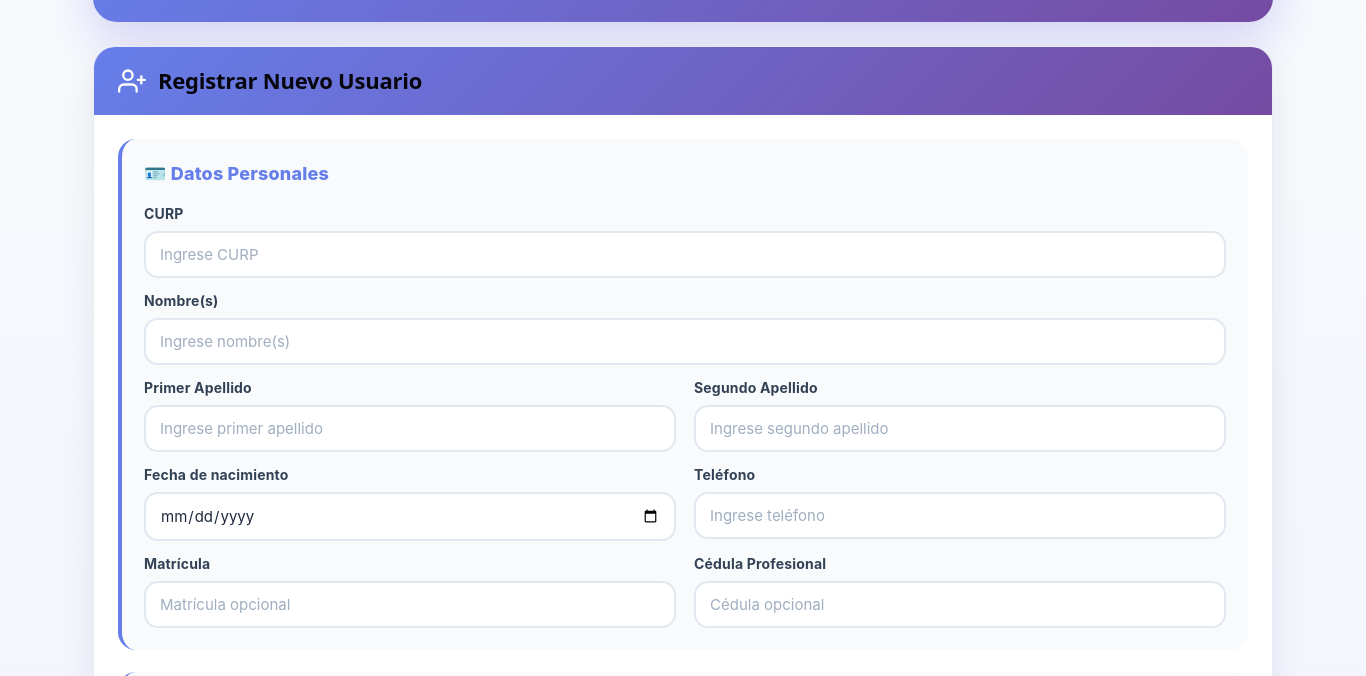
Test: Alta de usuarios › recorta el usuario, guarda el rol y muestra el alta sin depender de otra consulta
Expected: the date field is shown, top-left (144, 492), bottom-right (676, 541)
Type "Usuario QA" into the field with placeholder "Ingrese nombre(s)" at (685, 341), box top-left (144, 318), bottom-right (1226, 365)
(page scrolled)
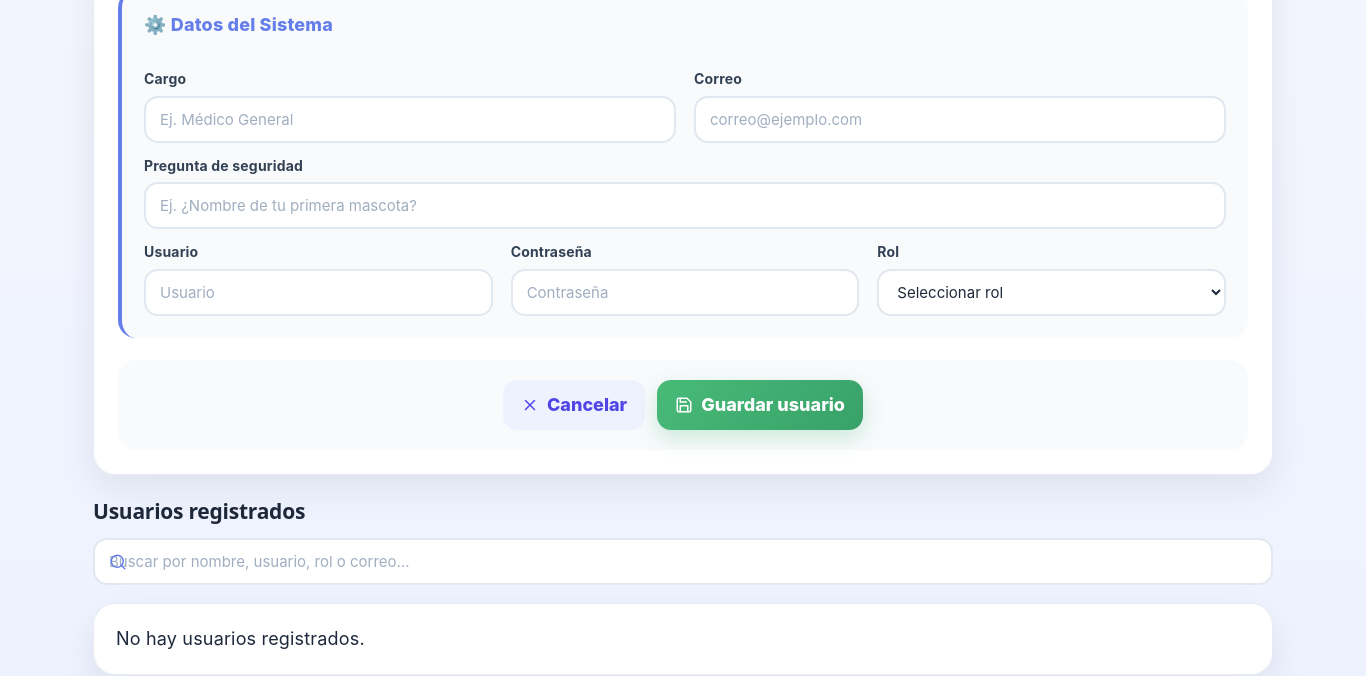
Type "  qa.medico  " into the field with placeholder "Usuario" at (318, 293), box top-left (144, 269), bottom-right (493, 316)
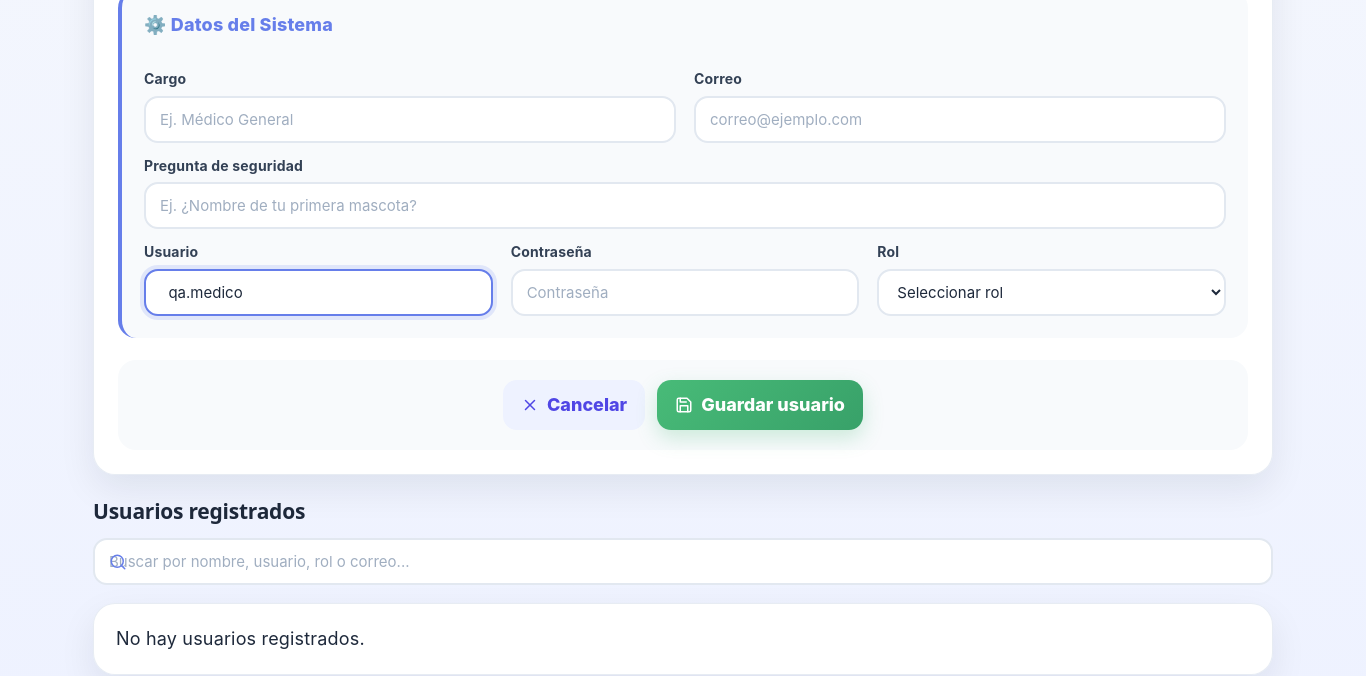
Type "PruebaSegura-42" into the password field with placeholder "Contraseña" at (685, 293), box top-left (511, 269), bottom-right (859, 316)
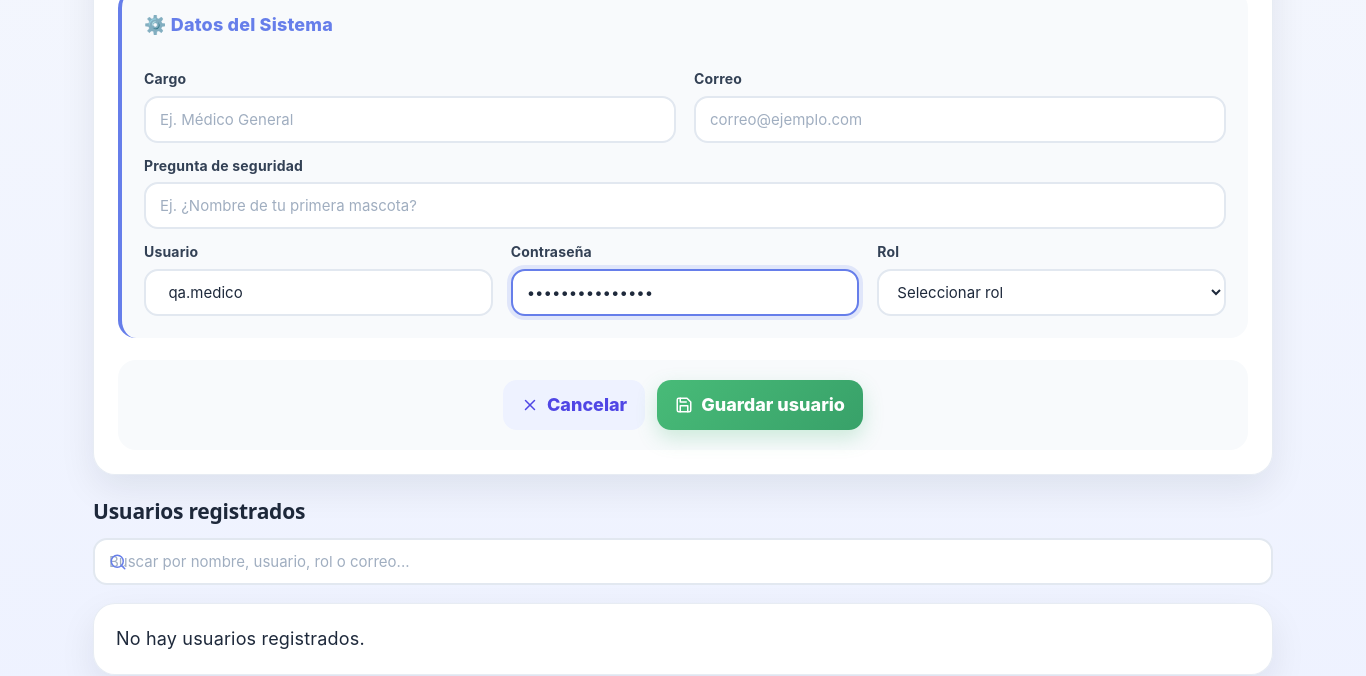
Select "Médico" in the dropdown at (1052, 293), box top-left (877, 269), bottom-right (1226, 316)
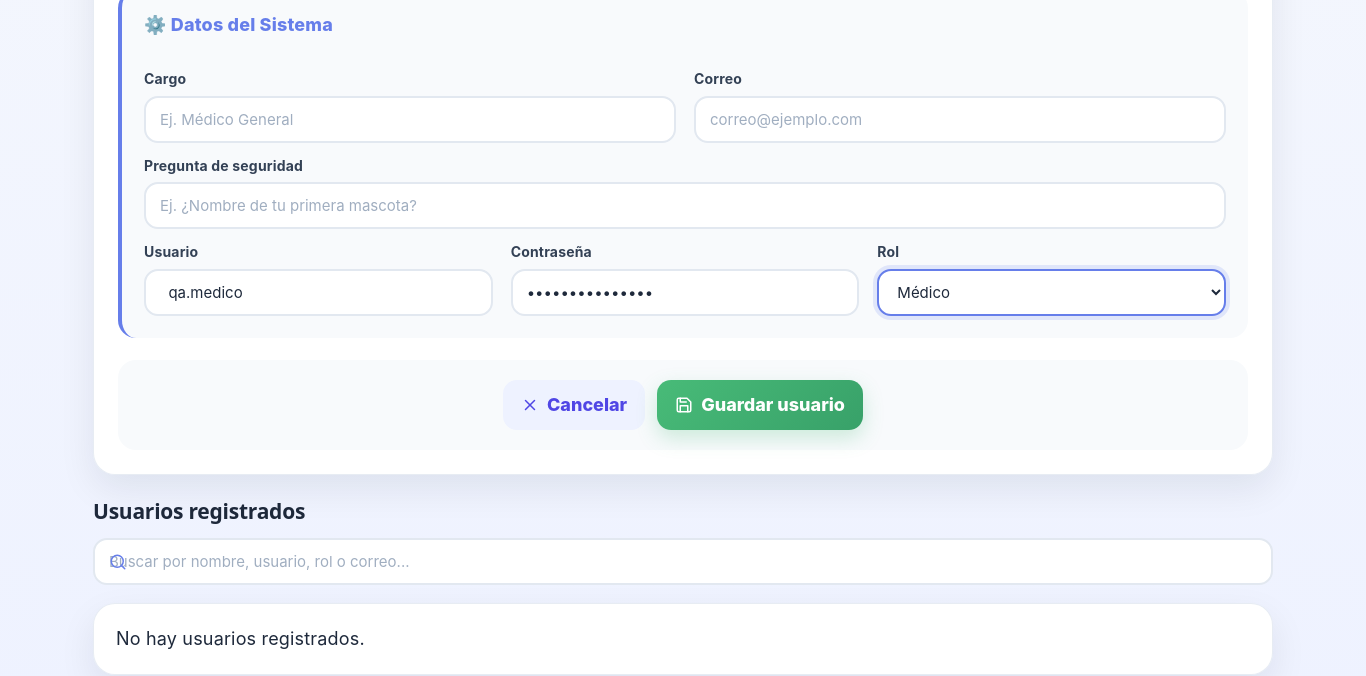
Click the button "Guardar usuario" at (760, 405), box top-left (657, 380), bottom-right (863, 430)
(page scrolled)
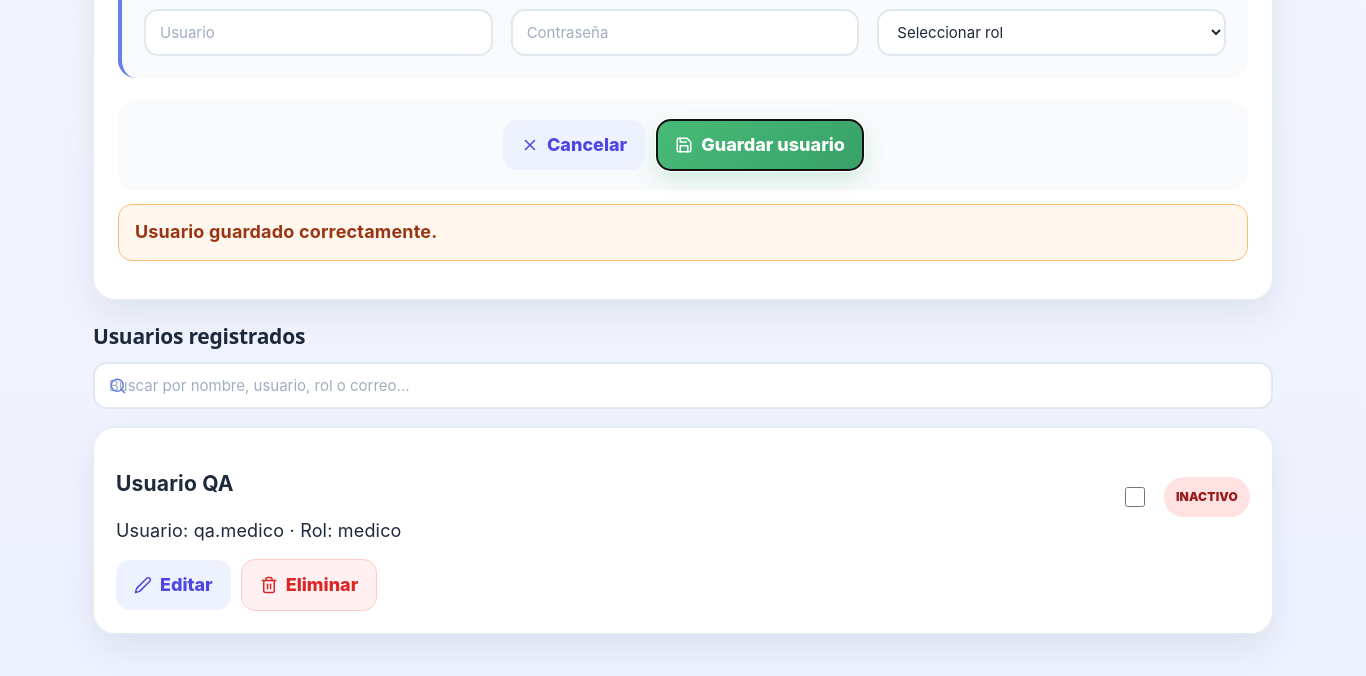
Now the text "Usuario guardado correctamente." is shown, box top-left (118, 204), bottom-right (1248, 260)
Now the text "Usuario: qa.medico · Rol: medico" is shown, box top-left (116, 518), bottom-right (402, 545)
